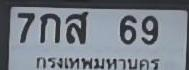6: (119, 14, 135, 44)
7: (17, 12, 34, 42)
9: (141, 15, 157, 44)
A01: (39, 12, 60, 42)
A40: (65, 11, 87, 43)
BKK: (34, 54, 164, 70)
